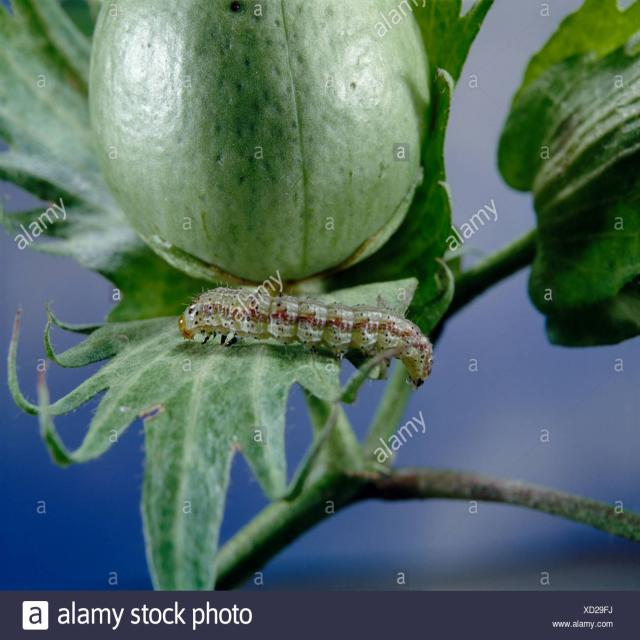Corn-earworm: (176, 281, 436, 392)
